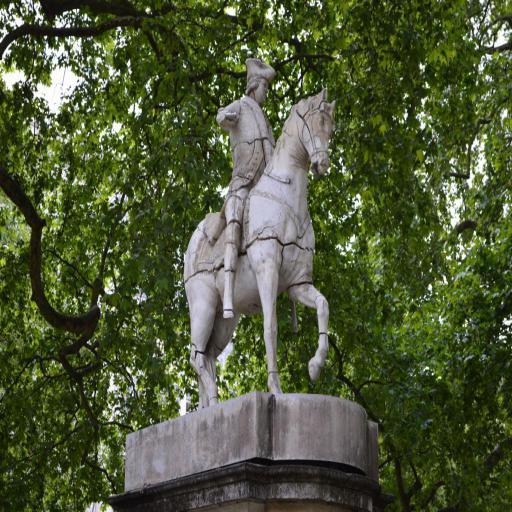horse: (186, 82, 338, 412)
